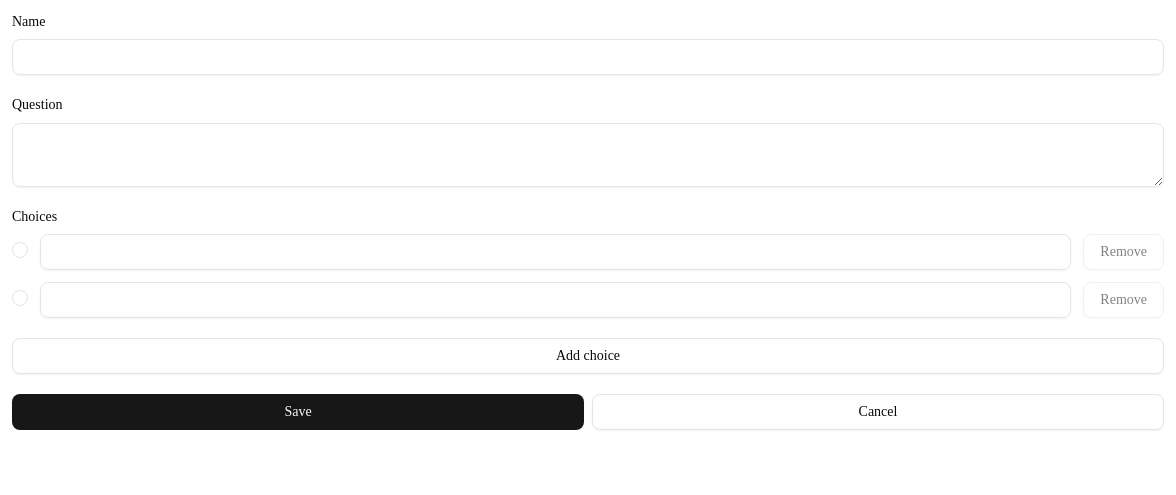
Test case: McqForm › add choice appends a row
Click the button "Add choice".
click(588, 356)  # box [12,338,1164,374]
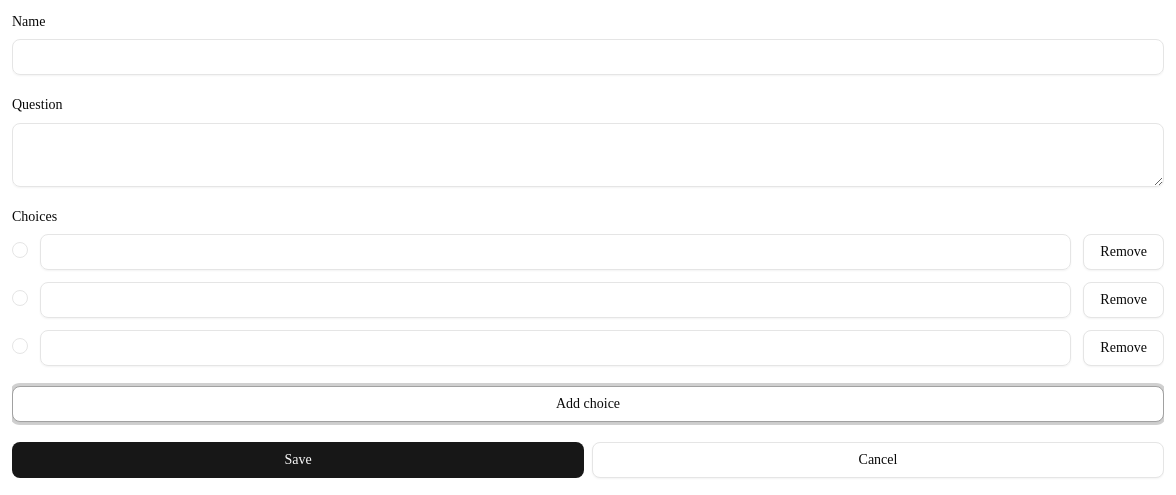
Expected: the field named "choice 3" is shown, [40,330,1071,366]
